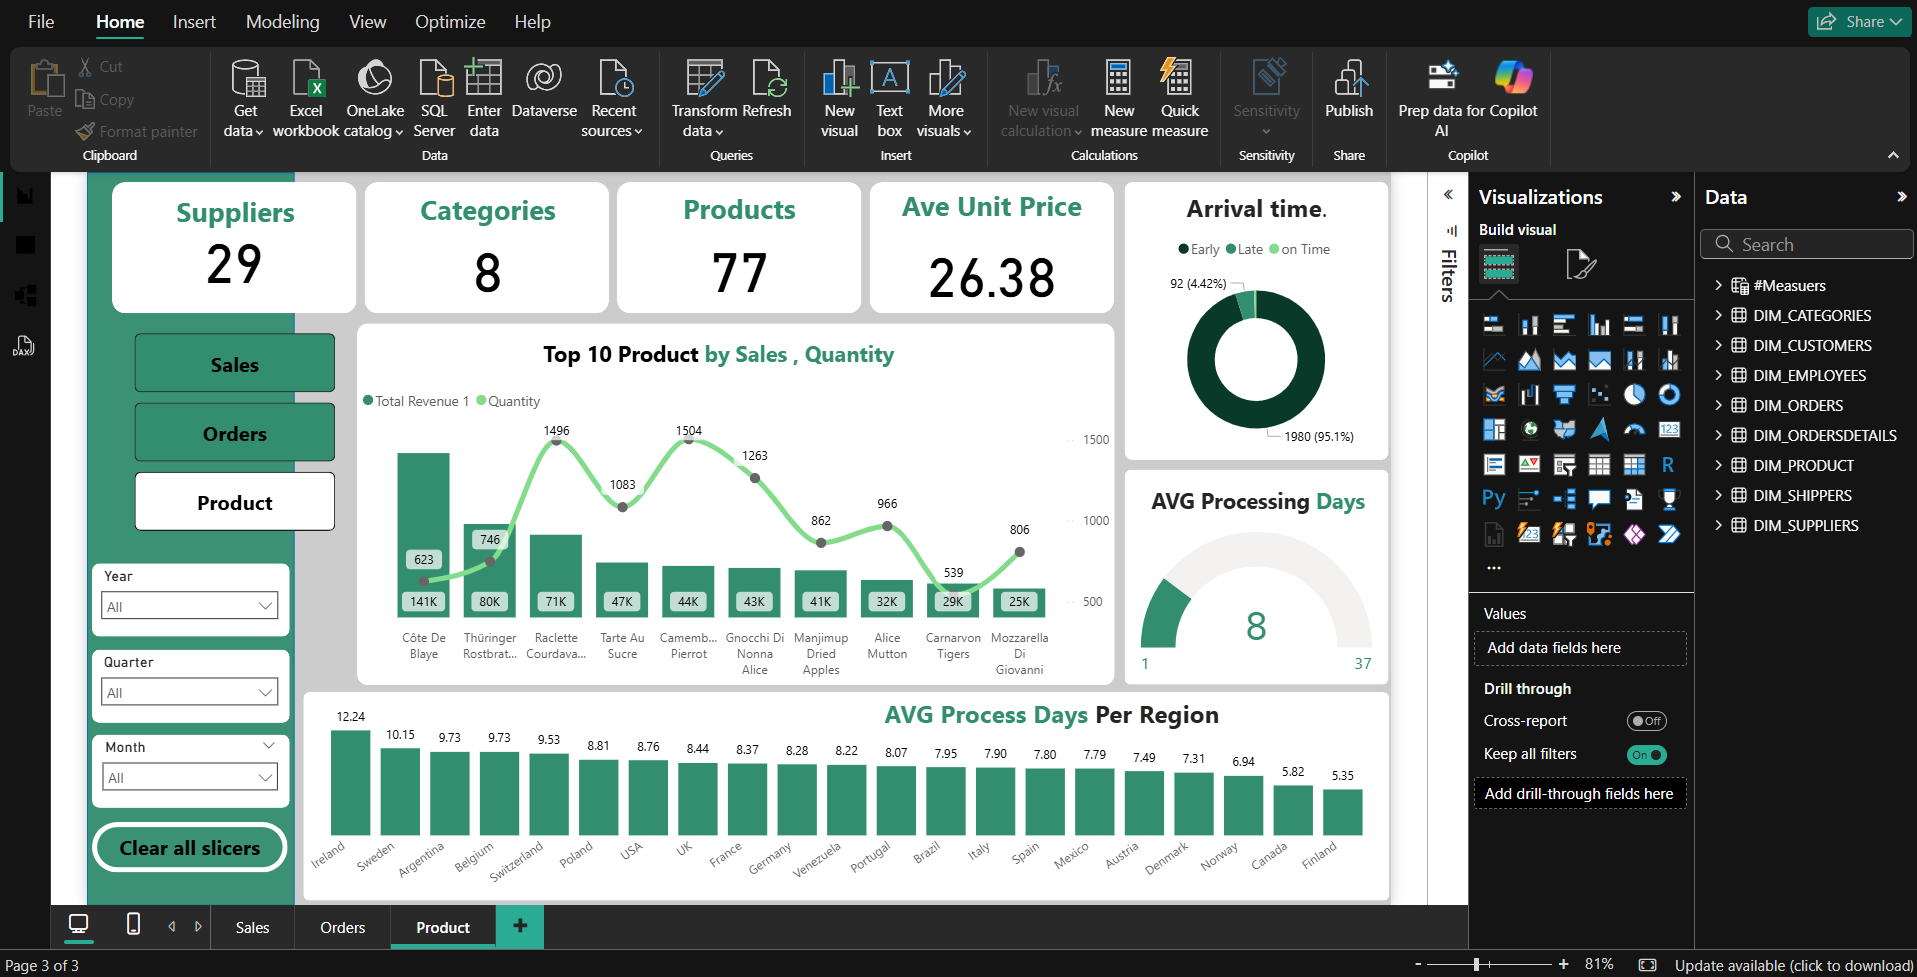

The page's visual inventory and layout, read from the dashboard file:
{"tool":"powerbi","page":{"name":"Product","canvas":[1280,720],"ordinal":2},"visuals":[{"type":"shape","box":[1018.2,9.6,259.3,273.1],"z":0},{"type":"shape","box":[0,0,203.7,720.2],"z":1000},{"type":"actionButton","box":[5.5,638.1,192.1,49.4],"z":2000},{"type":"shape","box":[24.7,9.6,240.1,129],"z":3000},{"type":"card","title":"Suppliers","fields":{"Values":["#Measuers.Suppliers"]},"box":[24.7,28.8,240.1,109.8],"z":4000},{"type":"shape","box":[272.6,9.6,240.1,129],"z":5000},{"type":"card","title":"Categories","fields":{"Values":["CountNonNull(DIM_CATEGORIES.CATEGORYID)"]},"box":[273.1,43.9,240.1,94.7],"z":6000},{"type":"shape","box":[520.1,9.6,240.1,129],"z":7000},{"type":"shape","box":[768.4,9.6,240.1,129],"z":8000},{"type":"card","title":"Products","fields":{"Values":["CountNonNull(DIM_PRODUCT.PRODUCTID)"]},"box":[520.1,43.9,240.1,94.7],"z":9000},{"type":"card","title":"Ave Unit Price","fields":{"Values":["Avg(DIM_ORDERS.UNITPRICE)"]},"box":[768.4,54.9,240.1,83.7],"z":10000},{"type":"textbox","box":[273.5,14,240.1,56.3],"z":11000},{"type":"textbox","box":[768.4,9.6,240.1,56.3],"z":12000},{"type":"textbox","box":[520.1,11.8,240.1,56.3],"z":13000},{"type":"textbox","box":[26.1,16.3,240.1,56.3],"z":14000},{"type":"shape","box":[1018.2,292.3,259.3,211.3],"z":15000},{"type":"gauge","fields":{"Y":["#Measuers.AvgProcessingTime"],"MinValue":["#Measuers.MinDayShip"],"MaxValue":["#Measuers.MaxDayShip"]},"box":[1018.2,348.5,259.3,155.1],"z":16000},{"type":"textbox","box":[1029.2,303.3,240.1,45.3],"z":17000},{"type":"shape","box":[212.7,510.5,1066.2,205],"z":18000},{"type":"clusteredColumnChart","fields":{"Y":["Avg(DIM_ORDERS.Processing Duration (Days))"],"Category":["DIM_ORDERS.SHIPCOUNTRY"]},"box":[212.7,510.5,1064.8,209.9],"z":19000},{"type":"textbox","box":[778,510.5,371.9,45.3],"z":20000},{"type":"shape","box":[264.8,148.2,743.7,355.4],"z":21000},{"type":"textbox","box":[407.5,157.8,425.4,45.3],"z":22000},{"type":"lineClusteredColumnComboChart","fields":{"Category":["DIM_PRODUCT.PRODUCTNAME"],"Y":["#Measuers.Total Revenue 1"],"Y2":["#Measuers.Quantity"]},"box":[264.8,203.1,743.7,300.5],"z":23000},{"type":"pageNavigator","box":[46.7,157.8,197.6,196.2],"z":24000},{"type":"donutChart","fields":{"Category":["DIM_ORDERS.Delivery_Status"],"Y":["CountNonNull(DIM_ORDERS.Delivery_Status)"]},"box":[1018.4,55.2,258.9,228.2],"z":25000},{"type":"textbox","box":[1028.2,13.5,240.5,45.4],"z":26000},{"type":"shape","box":[5,384.4,194.1,72.1],"z":27000},{"type":"shape","box":[5,469,194.1,72.1],"z":28000},{"type":"shape","box":[5,552.3,194.1,72.1],"z":29000},{"type":"slicer","fields":{"Values":["DIM_ORDERS.ORDERDATE.Variation.Date Hierarchy.Year"]},"box":[3.7,382.8,193.9,73.6],"z":30000},{"type":"slicer","fields":{"Values":["DIM_ORDERS.ORDERDATE.Variation.Date Hierarchy.Quarter"]},"box":[3.7,467.5,193.9,73.6],"z":31000},{"type":"slicer","fields":{"Values":["DIM_ORDERS.ORDERDATE.Variation.Date Hierarchy.Month"]},"box":[4.9,550.9,192.6,73.6],"z":32000}]}

Visuals, with their boxes on the page's 1280x720 design canvas (x1, y1, x2, y2). These are canvas units, not pixel positions in the 1917x977 screenshot, which may show the page scaled, cropped or inside an application window:
shape: 1018:10:1278:283
shape: 0:0:204:720
actionButton: 6:638:198:688
shape: 25:10:265:139
"Suppliers" card: 25:29:265:139
shape: 273:10:513:139
"Categories" card: 273:44:513:139
shape: 520:10:760:139
shape: 768:10:1008:139
"Products" card: 520:44:760:139
"Ave Unit Price" card: 768:55:1008:139
textbox: 274:14:514:70
textbox: 768:10:1008:66
textbox: 520:12:760:68
textbox: 26:16:266:73
shape: 1018:292:1278:504
gauge - #Measuers.AvgProcessingTime x #Measuers.MinDayShip: 1018:348:1278:504
textbox: 1029:303:1269:349
shape: 213:510:1279:716
clusteredColumnChart - Avg(DIM_ORDERS.Processing Duration (Days)) x DIM_ORDERS.SHIPCOUNTRY: 213:510:1278:720
textbox: 778:510:1150:556
shape: 265:148:1008:504
textbox: 408:158:833:203
lineClusteredColumnComboChart - DIM_PRODUCT.PRODUCTNAME x #Measuers.Total Revenue 1: 265:203:1008:504
pageNavigator: 47:158:244:354
donutChart - DIM_ORDERS.Delivery_Status x CountNonNull(DIM_ORDERS.Delivery_Status): 1018:55:1277:283
textbox: 1028:14:1269:59
shape: 5:384:199:456
shape: 5:469:199:541
shape: 5:552:199:624
slicer - DIM_ORDERS.ORDERDATE.Variation.Date Hierarchy.Year: 4:383:198:456
slicer - DIM_ORDERS.ORDERDATE.Variation.Date Hierarchy.Quarter: 4:468:198:541
slicer - DIM_ORDERS.ORDERDATE.Variation.Date Hierarchy.Month: 5:551:198:624
